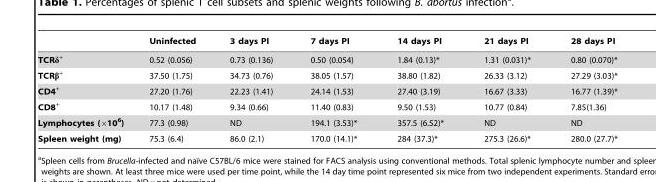table: (37, 36, 616, 142)
table column: (37, 36, 135, 142), (376, 36, 463, 142), (463, 36, 550, 142), (290, 36, 376, 142), (212, 36, 290, 142), (135, 36, 212, 142), (550, 36, 616, 142)
table column header: (37, 36, 616, 48)
table row: (37, 48, 616, 66), (37, 97, 616, 114), (37, 81, 616, 97), (37, 114, 616, 130), (37, 66, 616, 81), (37, 36, 616, 48), (37, 130, 616, 142)
